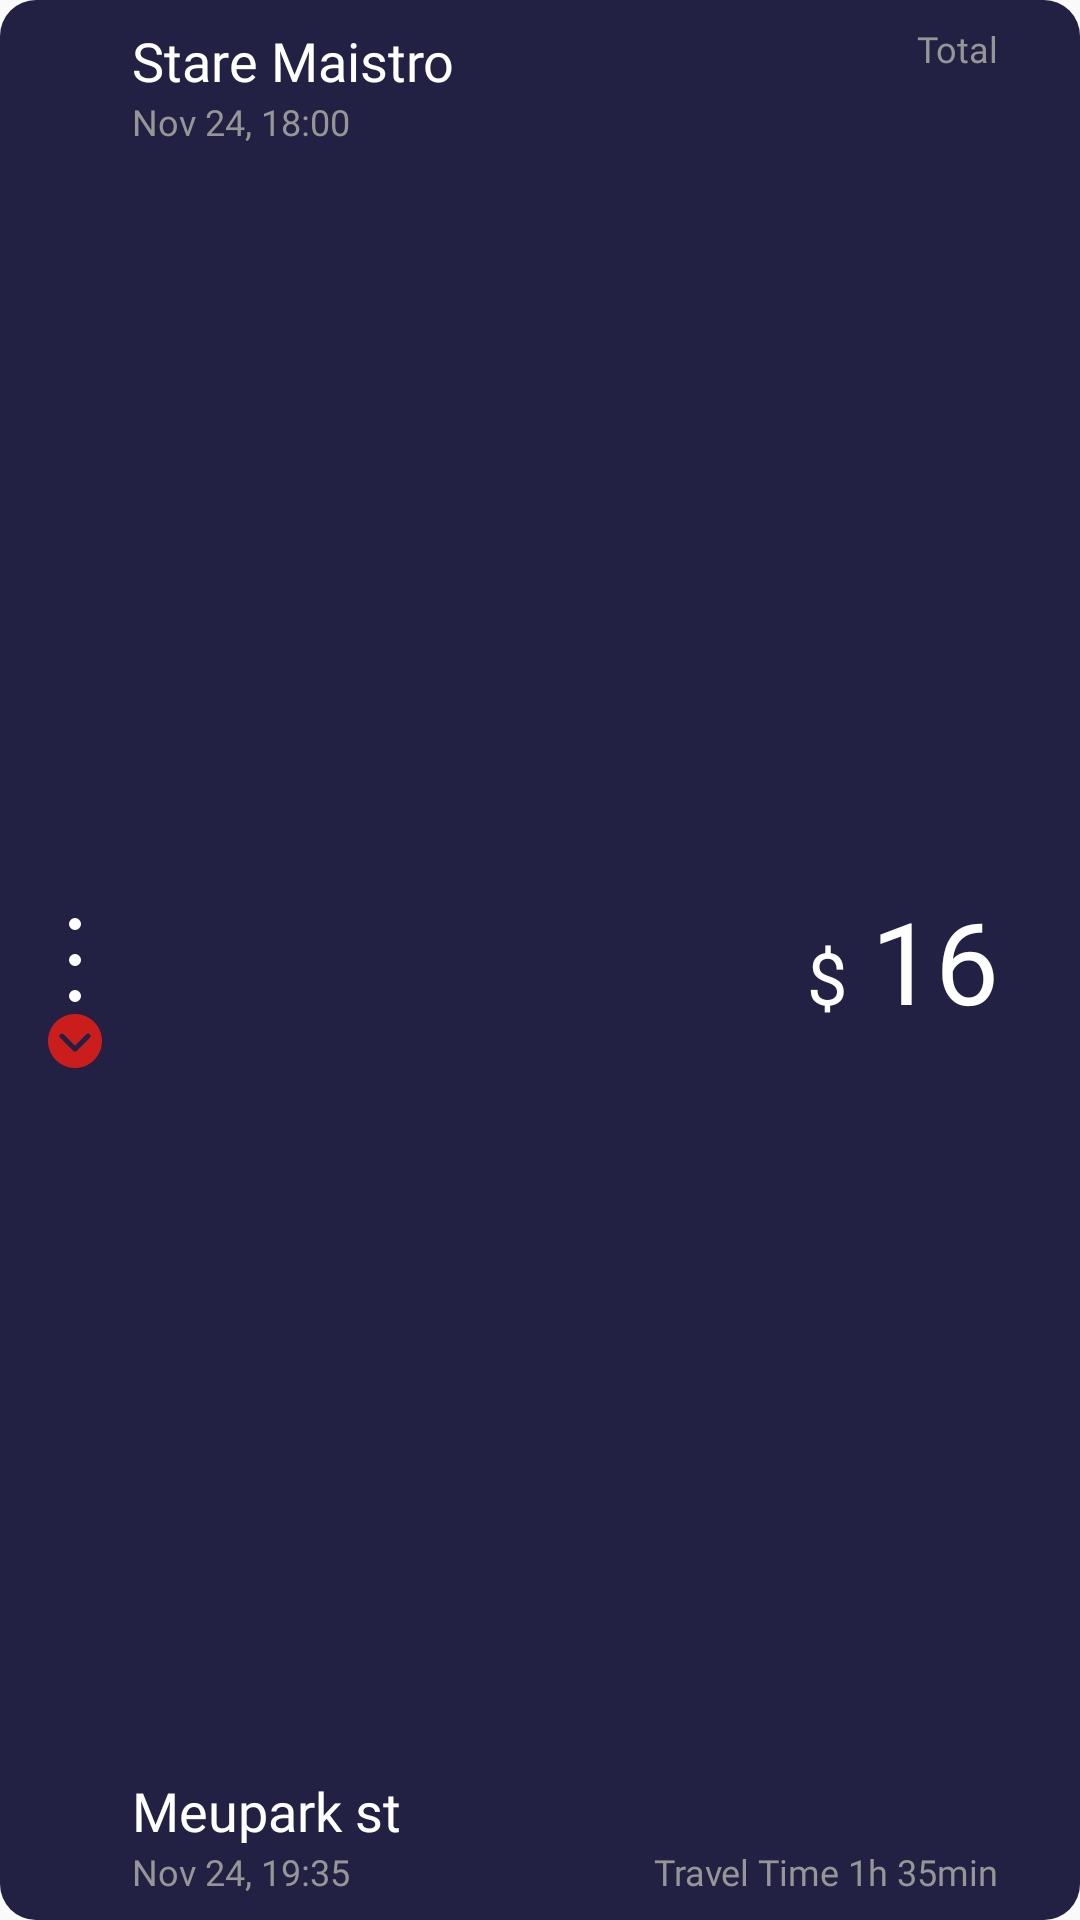

Icons on this 1080×1920 Android screen, each with its box as (x1, y1, x2, y2):
down arrow: (48, 1014, 102, 1068)
